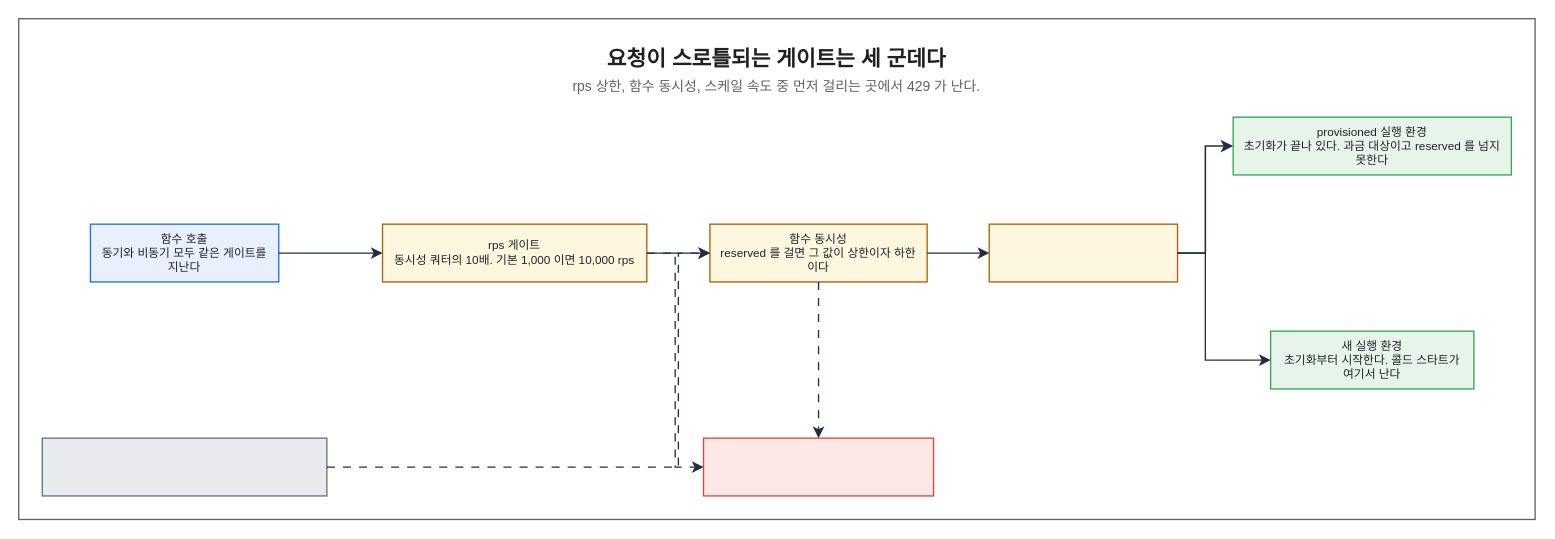
This 1555x539 diagram has some shape labels left out. The centre of each missing label's shape, as x and y in pixels:
"429 TooManyRequestsException 동기는 호출자에게, 비동기는 큐로 되돌려 6시간 재시도" goes at (x=818, y=466).
"미예약 pool Lambda 가 항상 100 을 남겨 예약 총량이 900 으로 묶인다" goes at (x=184, y=466).
"스케일 속도 함수당 10초에 실행 환경 1,000개" goes at (x=1083, y=252).
